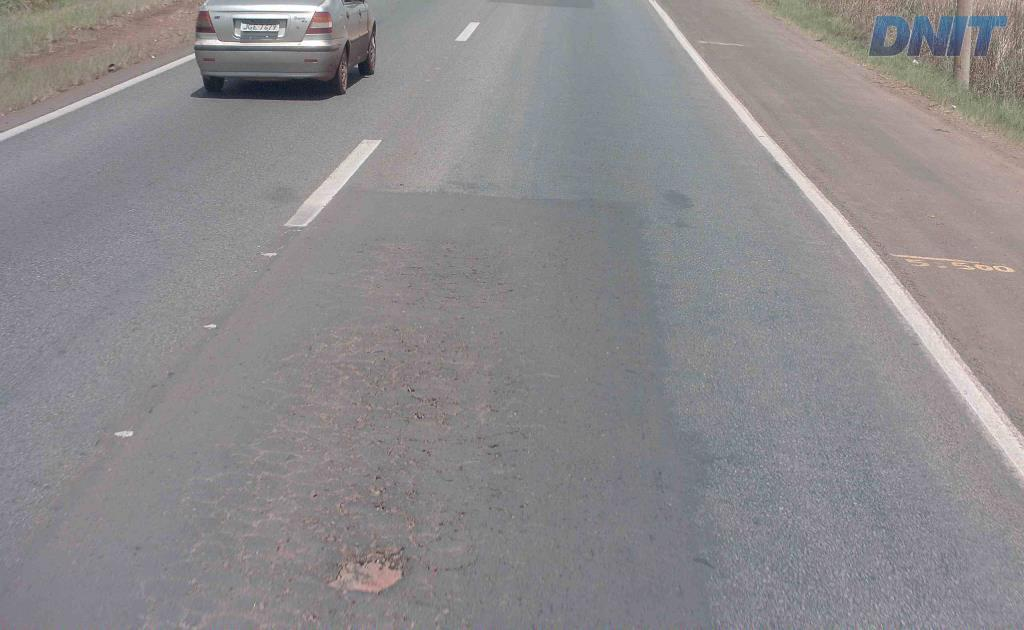pothole: (323, 545, 414, 596)
